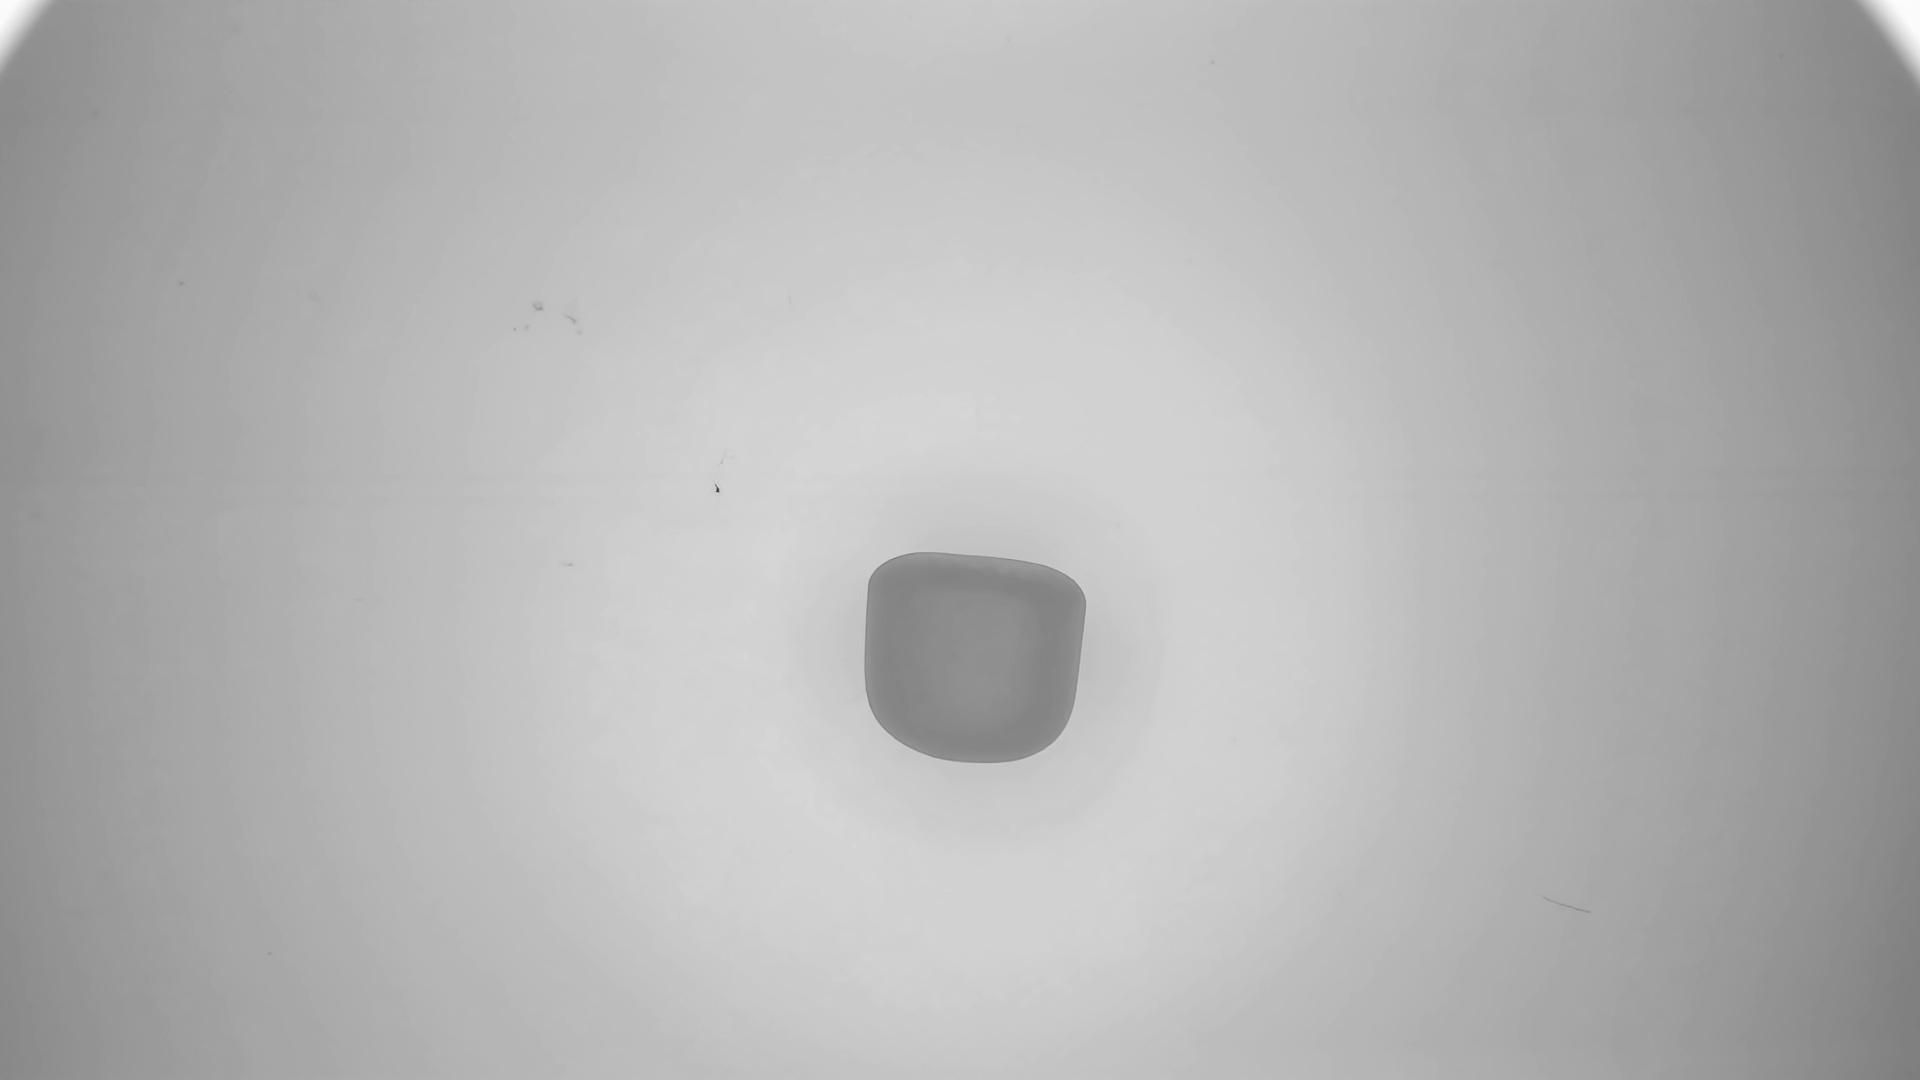normal: (864, 550, 1089, 766)
